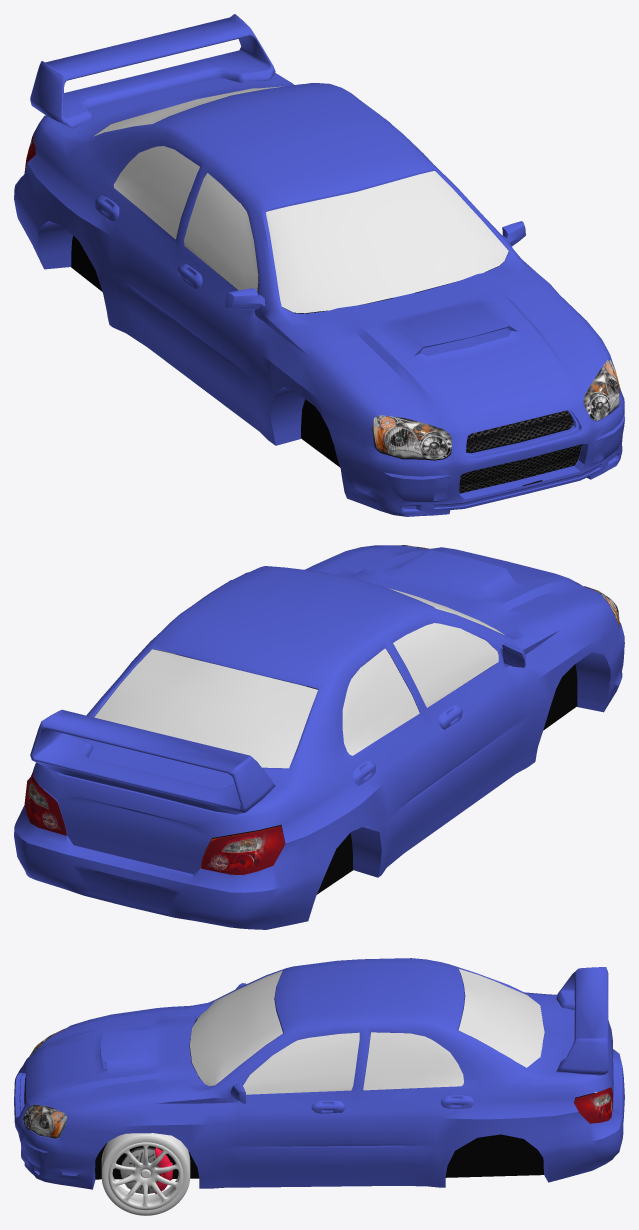
Rendered from wrx_3.fbx.
3 renders of one model, top to bottom at view 1: azimuth 30°, elevation 25°; view 2: azimuth 150°, elevation 25°; view 3: azimuth 270°, elevation 25°, orthographic. The views are drawn at different scales.
Parts seen in each view (by area): view 1: body_mesh.001, window_meshes, wing_mesh, front_hood_mesh, head_light_mesh., under_carraige, door_handle_rear; view 2: body_mesh.001, window_meshes, wing_mesh, tail_light_mesh, under_carraige, door_handle_rear; view 3: body_mesh.001, window_meshes, wing_mesh, under_carraige, rim_mesh.002, tire_mesh.001, head_light_mesh., tail_light_mesh, brakes_mesh.001, door_handle_rear.
Boxes of the visible parts, bbox=[...] form: body_mesh.001: bbox=[14, 73, 624, 516]; window_meshes: bbox=[93, 86, 508, 313]; wing_mesh: bbox=[30, 14, 275, 128]; front_hood_mesh: bbox=[459, 410, 581, 493]; head_light_mesh.: bbox=[371, 360, 619, 459]; under_carraige: bbox=[71, 191, 571, 466]; door_handle_rear: bbox=[95, 195, 202, 288]; body_mesh.001: bbox=[14, 545, 624, 929]; window_meshes: bbox=[94, 588, 504, 768]; wing_mesh: bbox=[30, 709, 275, 814]; tail_light_mesh: bbox=[24, 769, 284, 874]; under_carraige: bbox=[202, 652, 577, 894]; door_handle_rear: bbox=[353, 704, 462, 785]; body_mesh.001: bbox=[14, 958, 624, 1189]; window_meshes: bbox=[189, 969, 544, 1094]; wing_mesh: bbox=[556, 967, 608, 1075]; under_carraige: bbox=[63, 1038, 594, 1179]; rim_mesh.002: bbox=[108, 1142, 183, 1210]; tire_mesh.001: bbox=[101, 1133, 190, 1215]; head_light_mesh.: bbox=[23, 1028, 67, 1138]; tail_light_mesh: bbox=[574, 1029, 613, 1123]; brakes_mesh.001: bbox=[120, 1147, 172, 1194]; door_handle_rear: bbox=[311, 1095, 474, 1113].
Size of the model in its own units: 361 by 271 by 838.
